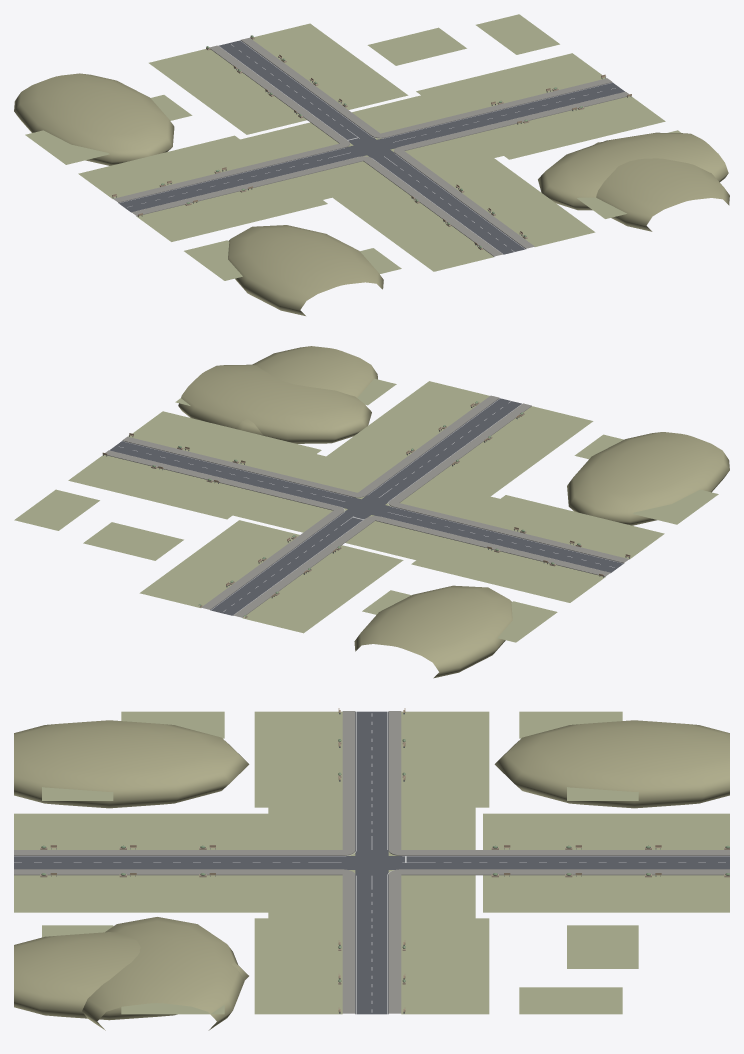
3 views of the same model, one above another, from view 1: azimuth 30°, elevation 25°; view 2: azimuth 150°, elevation 25°; view 3: azimuth 270°, elevation 25° (orthographic). The views are drawn at different scales.
Parts seen in each view (by area): view 1: static; view 2: static; view 3: static.
Part boxes in pixels (left/top/right/bottom): static: left=14, top=14, right=729, bottom=315; static: left=14, top=346, right=729, bottom=678; static: left=14, top=708, right=729, bottom=1030.
Size of what is drawn, in the model's own units: 180 by 14.08 by 180.
